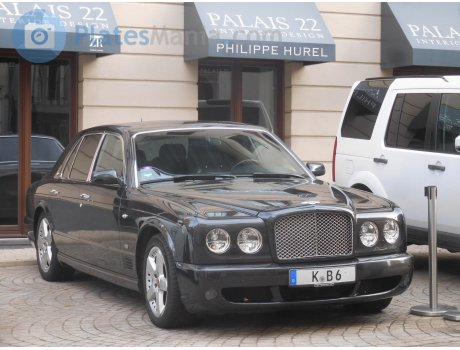License Plates: (308, 269, 347, 280)
